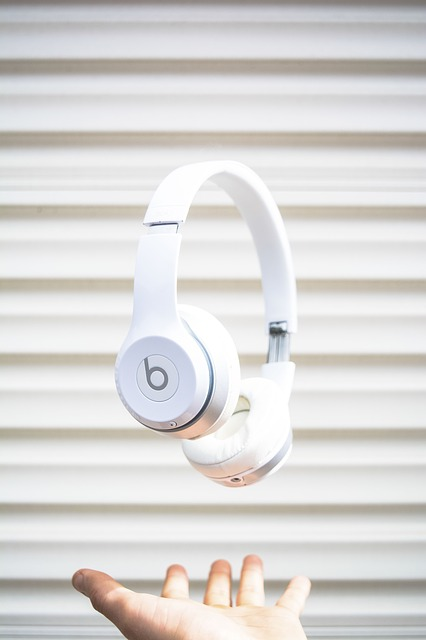headphones: (115, 160, 298, 488)
